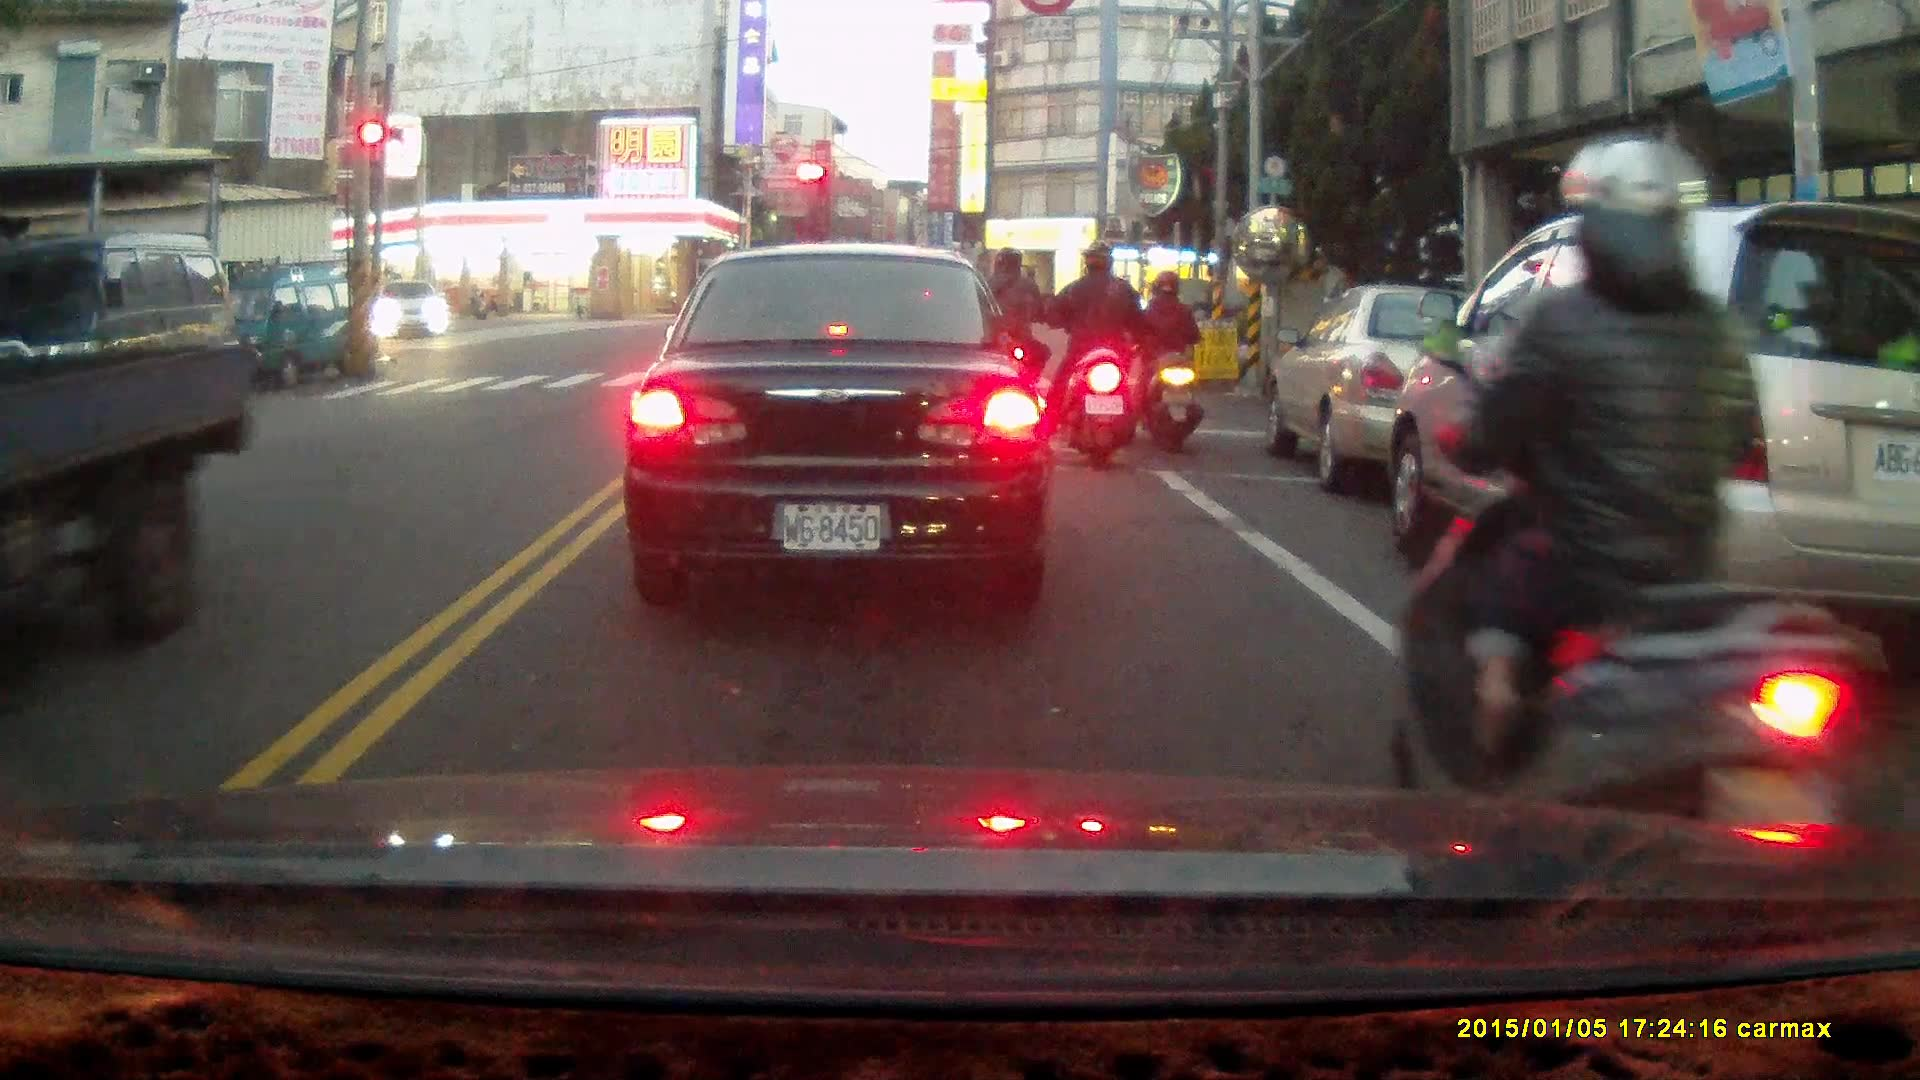rider: (1377, 132, 1869, 975), (1048, 242, 1141, 468), (964, 252, 1049, 432), (1135, 270, 1205, 451)
vehicle: (1379, 199, 1920, 685), (636, 248, 1046, 599), (1, 330, 264, 647), (1262, 287, 1590, 493), (194, 263, 384, 394), (372, 277, 451, 343)
